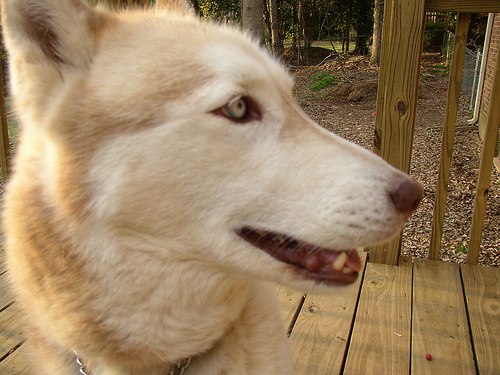dog: (0, 0, 426, 374)
